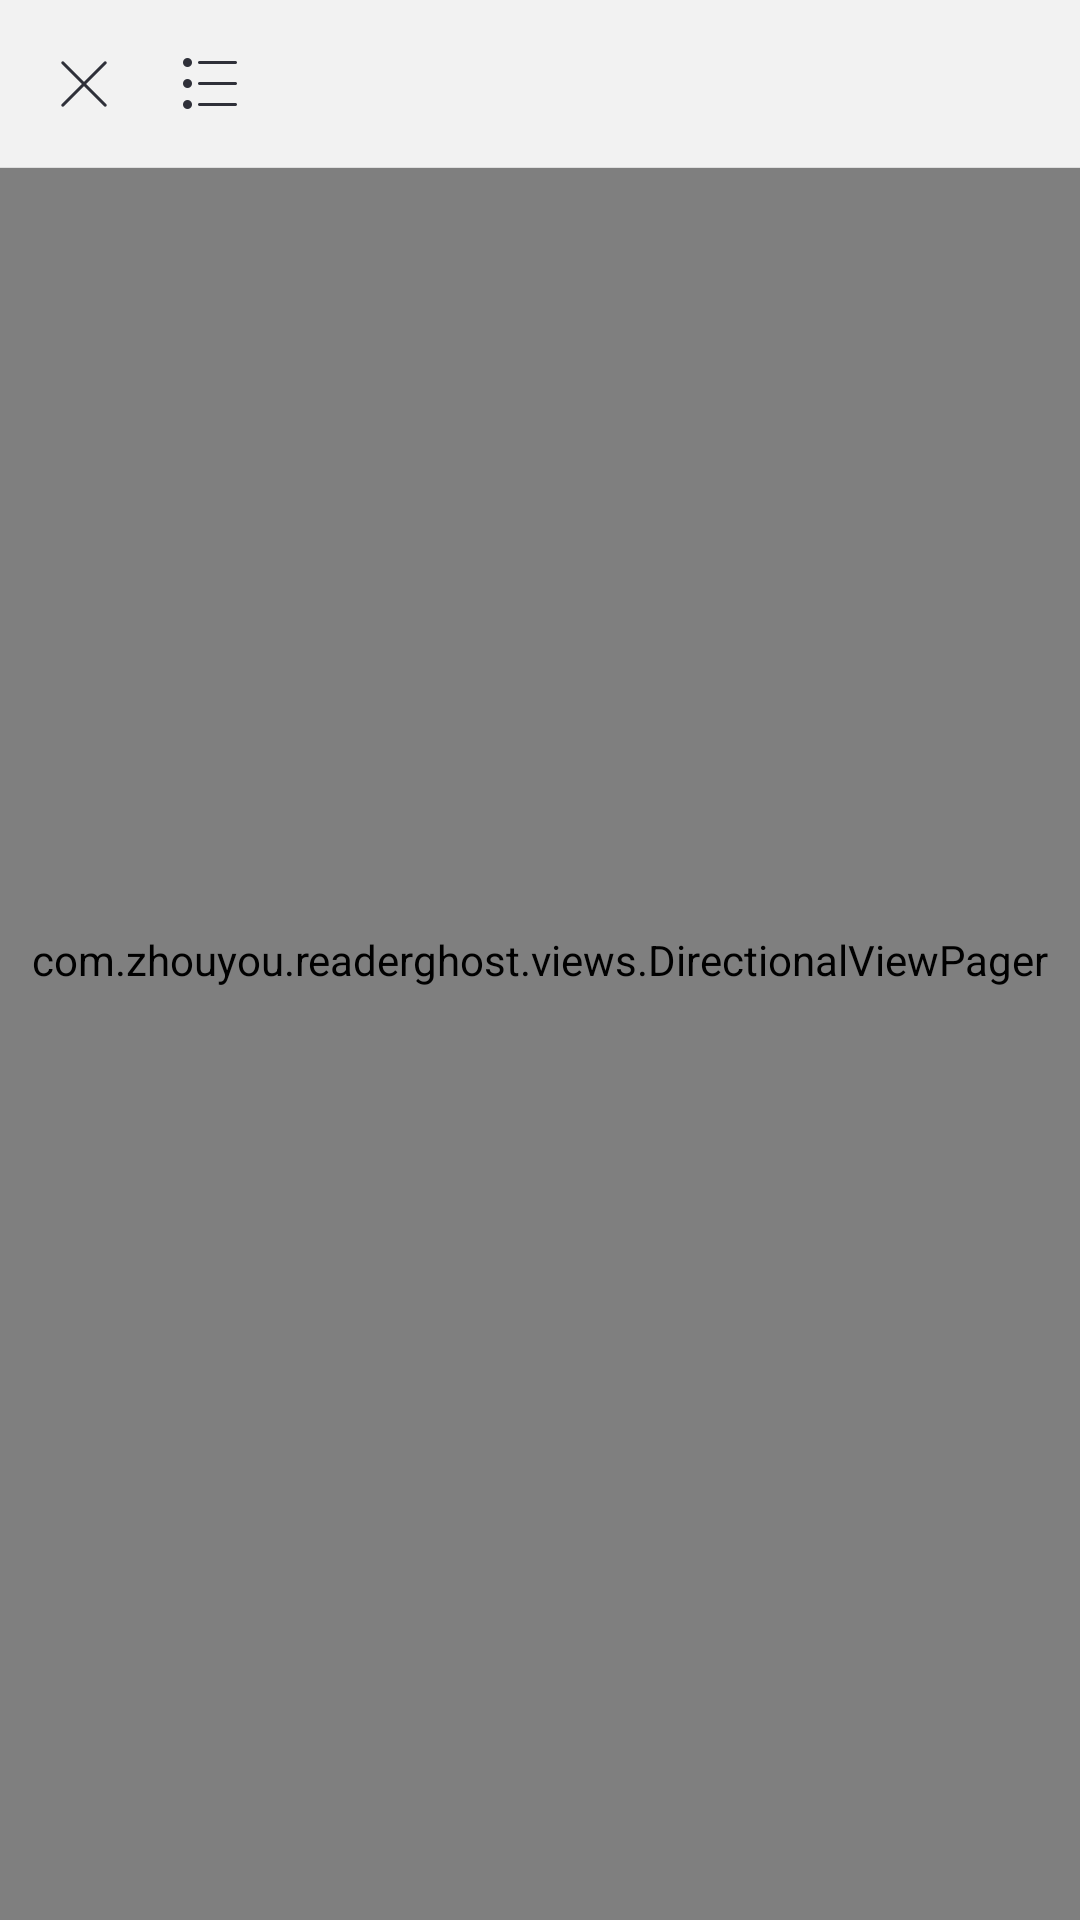

Named icons in this screenshot (1080x1920) and their centers, point (x, y):
close: point (84, 84)
menu: point (210, 83)
